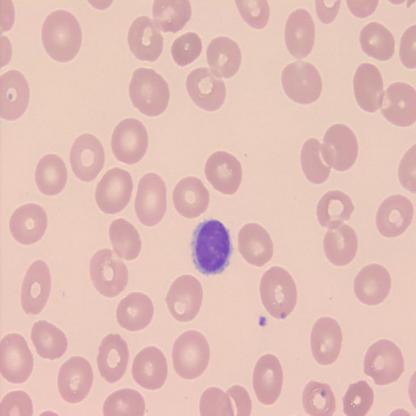Lymphocyte: (191, 218, 235, 277)
